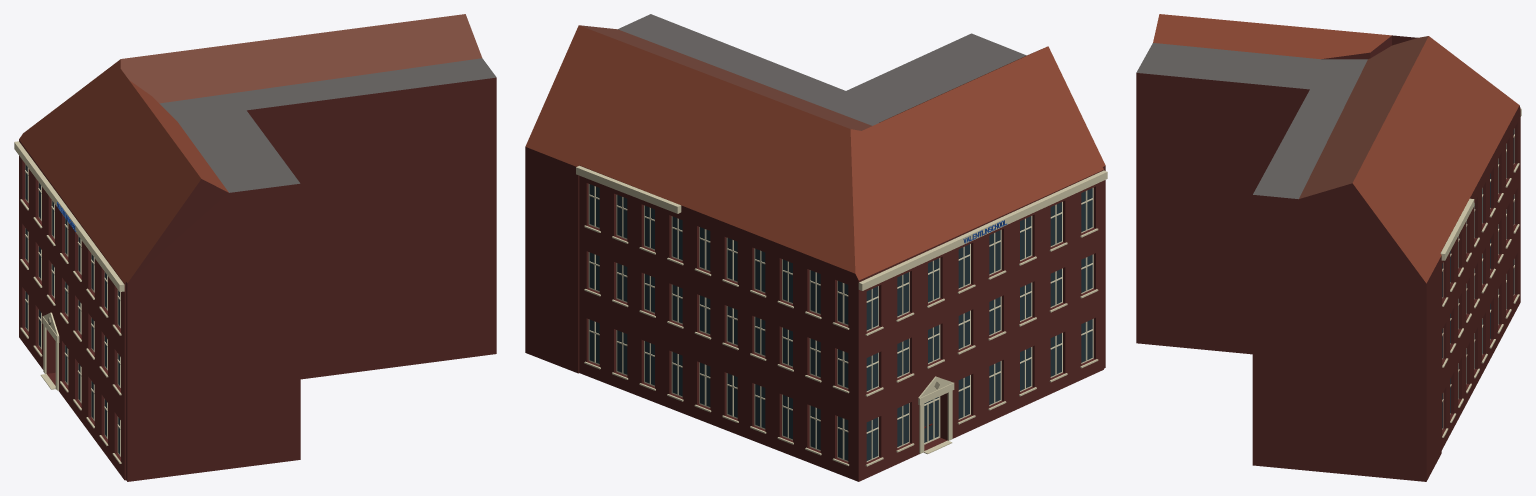
The model's file is recipe-large-oostpoort-montessori-080630.glb.
The picture shows the model from 3 angles, left to right: view 1: azimuth 30°, elevation 25°; view 2: azimuth 150°, elevation 25°; view 3: azimuth 270°, elevation 25°; orthographic projection. The views are drawn at different scales.
Parts seen in each view (by area): view 1: oostpoort-montessori-080630; view 2: oostpoort-montessori-080630; view 3: oostpoort-montessori-080630.
Part boxes in pixels (x1,y1,x2,y2): oostpoort-montessori-080630: (14, 14, 496, 481); oostpoort-montessori-080630: (525, 14, 1107, 481); oostpoort-montessori-080630: (1136, 14, 1521, 481).
Size of the model in its own units: 29.09 by 18.57 by 22.16.
